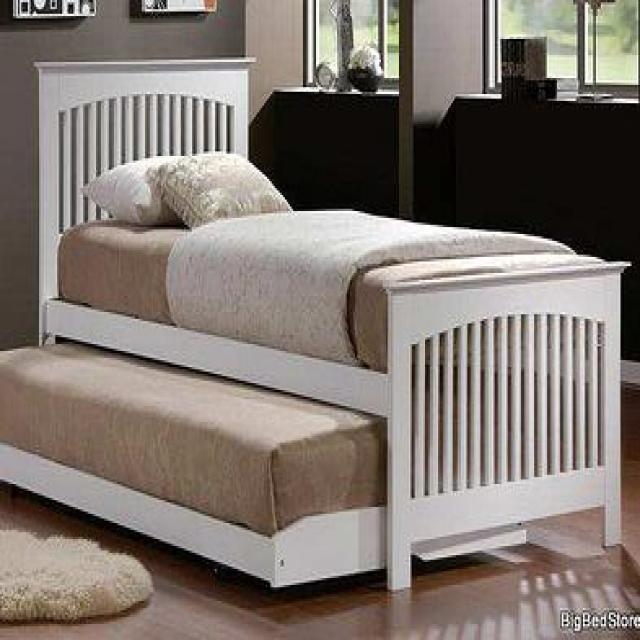bed: (31, 57, 630, 592)
